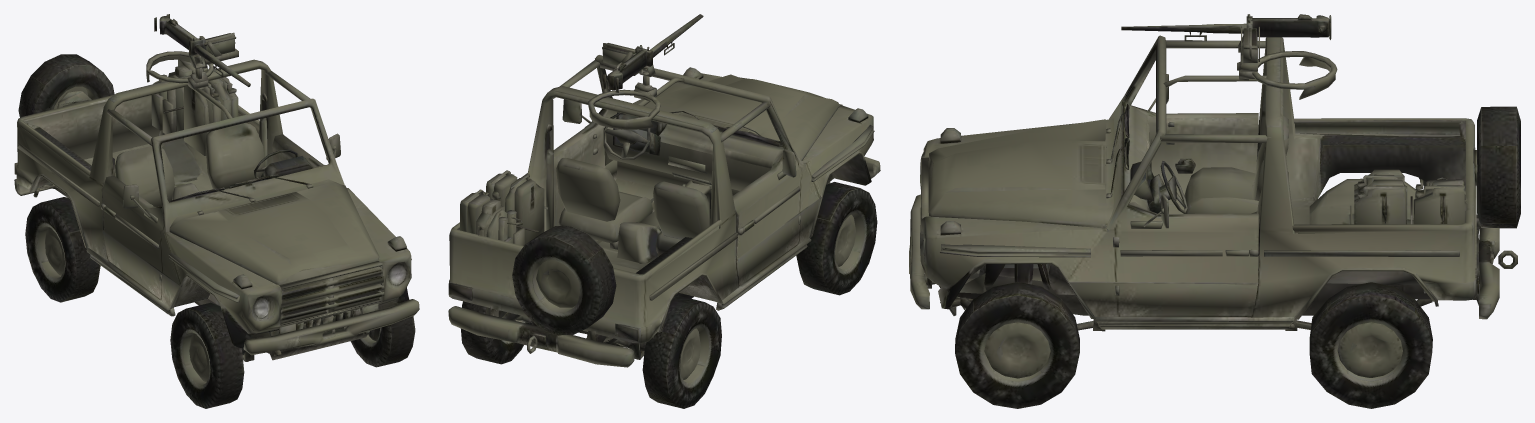
The model's file is jeep.glb.
3 renders of one model, left to right at view 1: azimuth 30°, elevation 25°; view 2: azimuth 150°, elevation 25°; view 3: azimuth 270°, elevation 25°, orthographic. The views are drawn at different scales.
Parts seen in each view (by area): view 1: hull, P_turret; view 2: hull, P_turret; view 3: hull, P_turret.
Boxes of the visible parts, x1=… form: hull: x1=14, y1=33, x2=419, y2=408; P_turret: x1=154, y1=14, x2=250, y2=86; hull: x1=448, y1=43, x2=880, y2=408; P_turret: x1=600, y1=14, x2=703, y2=93; hull: x1=909, y1=35, x2=1520, y2=408; P_turret: x1=1121, y1=14, x2=1331, y2=70.
Size of the model in its own units: 2.3 by 2.78 by 4.6.
3 materials, 3 textured.
